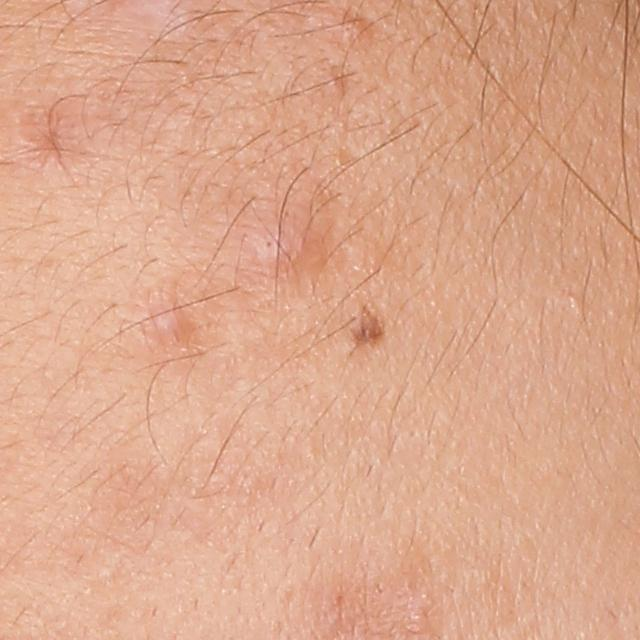comedo: (140, 304, 189, 352), (250, 229, 299, 274), (334, 13, 370, 49), (321, 74, 345, 95), (569, 293, 586, 315)
